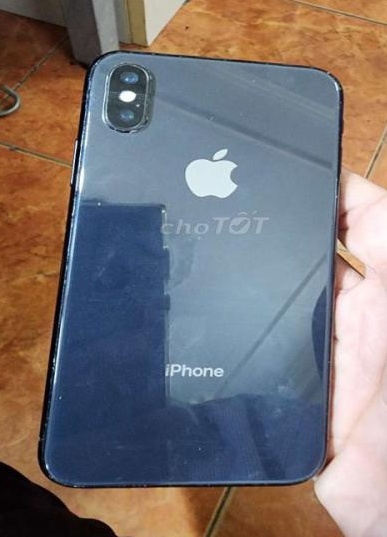scratch: (72, 61, 94, 180), (184, 108, 234, 132), (44, 464, 89, 490), (73, 193, 117, 219), (42, 384, 57, 458), (314, 68, 345, 97), (43, 354, 70, 378), (238, 67, 262, 88), (141, 69, 161, 89), (52, 390, 70, 408), (149, 202, 169, 218), (204, 421, 228, 434), (64, 249, 71, 293), (158, 242, 178, 257), (126, 482, 152, 489), (191, 445, 206, 457), (330, 193, 343, 205), (140, 115, 152, 125)
